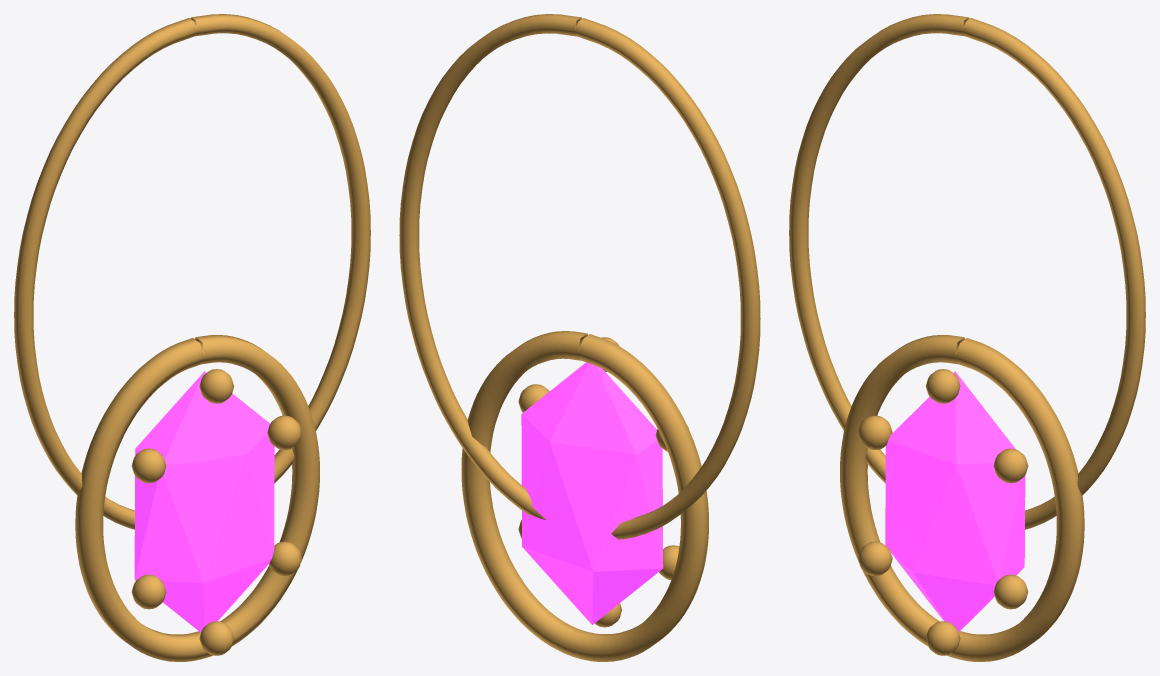
File: relic-7-refined-v15.fbx
The picture shows the model from 3 angles, left to right: view 1: azimuth 30°, elevation 25°; view 2: azimuth 150°, elevation 25°; view 3: azimuth 330°, elevation 25°; orthographic projection.
Visible parts, largest first — view 1: PendantGem.003, PendantChain.003, PendantFrame.003, SettingClaw.018, SettingClaw.021, SettingClaw.023, SettingClaw.022, SettingClaw.019, SettingClaw.020; view 2: PendantGem.003, PendantChain.003, PendantFrame.003; view 3: PendantGem.003, PendantChain.003, PendantFrame.003, SettingClaw.018, SettingClaw.019, SettingClaw.021, SettingClaw.020, SettingClaw.022, SettingClaw.023.
Part boxes in pixels (left/top/right/bottom): PendantGem.003: left=134, top=371, right=274, bottom=632; PendantChain.003: left=14, top=14, right=370, bottom=529; PendantFrame.003: left=75, top=335, right=319, bottom=661; SettingClaw.018: left=199, top=369, right=234, bottom=403; SettingClaw.021: left=199, top=621, right=233, bottom=655; SettingClaw.023: left=131, top=448, right=166, bottom=483; SettingClaw.022: left=131, top=574, right=166, bottom=609; SettingClaw.019: left=267, top=415, right=301, bottom=449; SettingClaw.020: left=269, top=541, right=301, bottom=576; PendantGem.003: left=521, top=362, right=663, bottom=624; PendantChain.003: left=399, top=14, right=760, bottom=539; PendantFrame.003: left=461, top=331, right=708, bottom=661; PendantGem.003: left=885, top=371, right=1025, bottom=631; PendantChain.003: left=789, top=14, right=1145, bottom=529; PendantFrame.003: left=840, top=335, right=1084, bottom=661; SettingClaw.018: left=925, top=369, right=960, bottom=403; SettingClaw.019: left=993, top=448, right=1028, bottom=483; SettingClaw.021: left=926, top=621, right=960, bottom=655; SettingClaw.020: left=993, top=574, right=1028, bottom=609; SettingClaw.022: left=858, top=541, right=892, bottom=576; SettingClaw.023: left=858, top=415, right=892, bottom=449.
Bounding box in the file's own units: 58.42 × 101 × 11.95.
